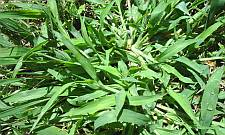crabgrass: (8, 4, 222, 135)
